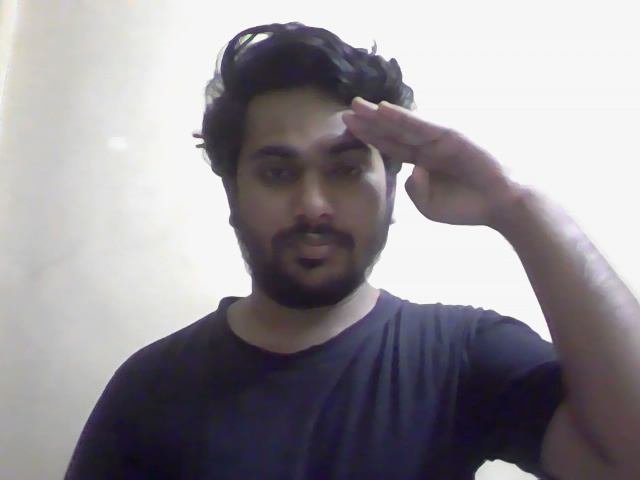hello: (176, 19, 640, 329)
